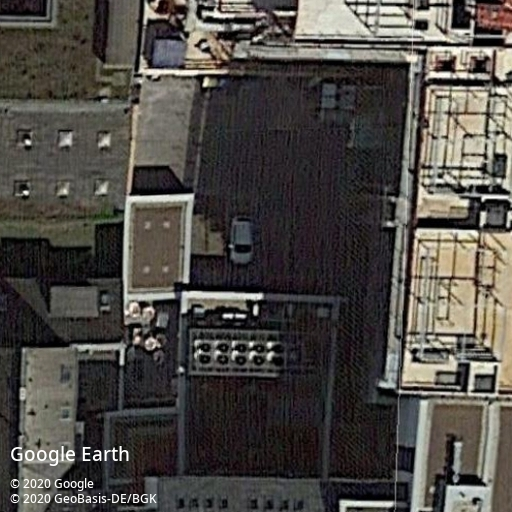Chiller: (193, 338, 288, 371)
